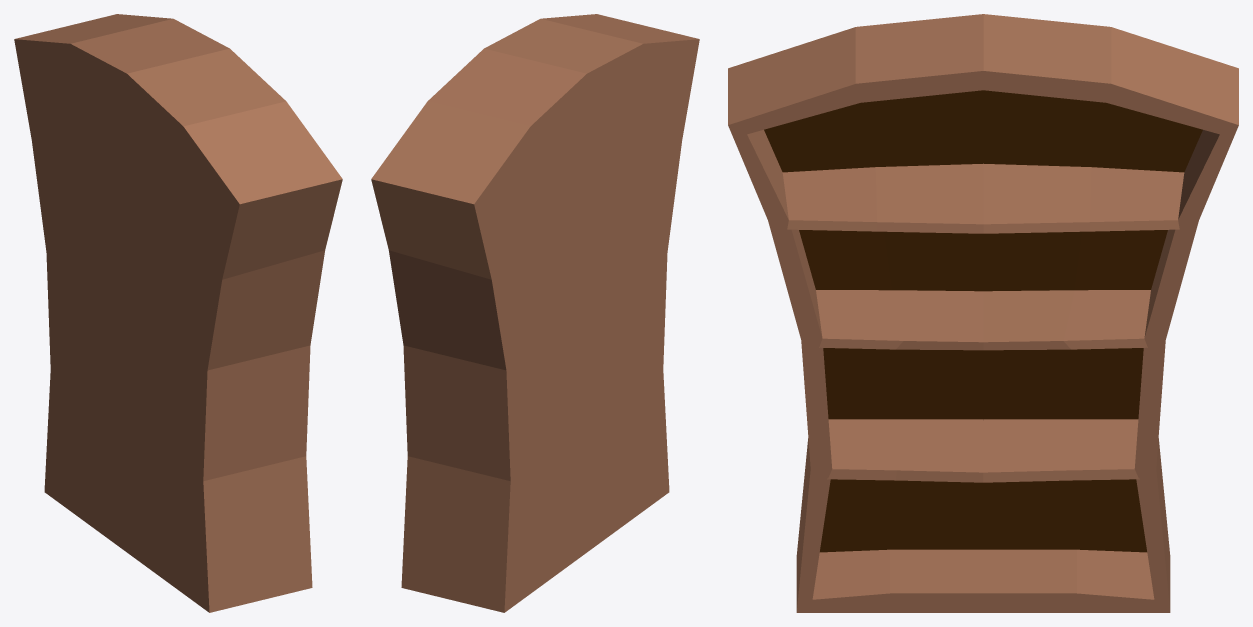
The model's file is BookShelf5_Model.fbx.
The picture shows the model from 3 angles, left to right: view 1: azimuth 30°, elevation 25°; view 2: azimuth 150°, elevation 25°; view 3: azimuth 270°, elevation 25°; orthographic projection. The views are drawn at different scales.
Parts seen in each view (by area): view 1: 27_BookShelf; view 2: 27_BookShelf; view 3: 27_BookShelf.
Part boxes in pixels (x1=…): 27_BookShelf: x1=14, y1=14, x2=342, y2=612; 27_BookShelf: x1=371, y1=14, x2=699, y2=612; 27_BookShelf: x1=728, y1=14, x2=1238, y2=612.
Size of the model in its own units: 261 by 306 by 74.99.
